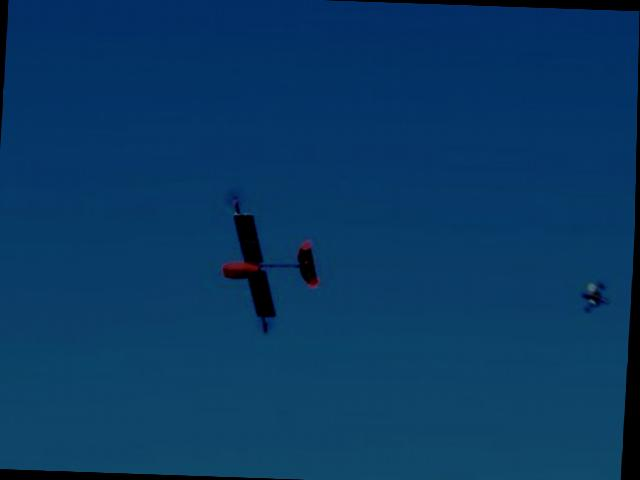uav: (205, 186, 337, 342)
